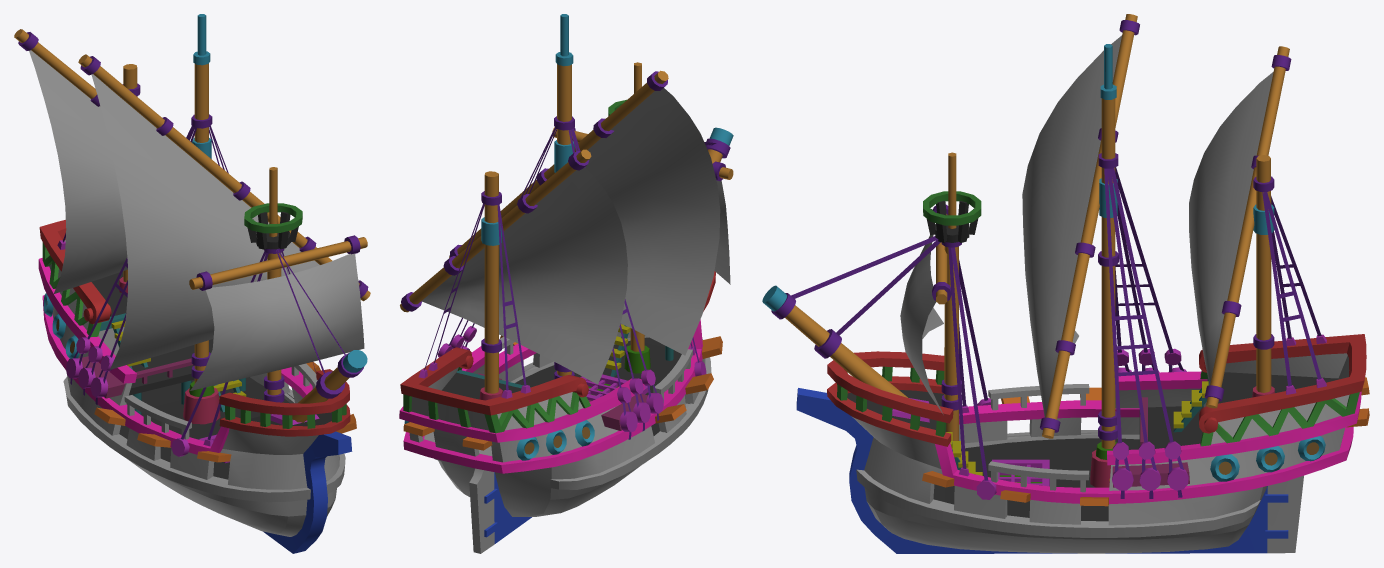
The model's file is Caravel_mm.fbx.
3 renders of one model, left to right at view 1: azimuth 30°, elevation 25°; view 2: azimuth 150°, elevation 25°; view 3: azimuth 270°, elevation 25°, orthographic. The views are drawn at different scales.
Parts seen in each view (by area): view 1: Caravel, Sails, Upgrade_02, Upgrade_01; view 2: Caravel, Sails, Upgrade_02, Rudder, Upgrade_01; view 3: Caravel, Sails, Upgrade_02, Upgrade_01, Rudder.
Part boxes in pixels (<box>): Caravel: <box>14,14,370,553</box>; Sails: <box>29,50,364,390</box>; Upgrade_02: <box>63,376,345,502</box>; Upgrade_01: <box>124,363,317,439</box>; Caravel: <box>399,14,733,543</box>; Sails: <box>421,88,730,384</box>; Upgrade_02: <box>434,339,711,489</box>; Rudder: <box>469,468,497,553</box>; Upgrade_01: <box>499,336,692,402</box>; Caravel: <box>762,14,1369,553</box>; Sails: <box>900,35,1273,417</box>; Upgrade_02: <box>856,430,1260,537</box>; Upgrade_01: <box>988,384,1089,492</box>; Rudder: <box>1265,475,1303,553</box>.
Bounding box in the file's own units: 614 × 1076 × 1171.
